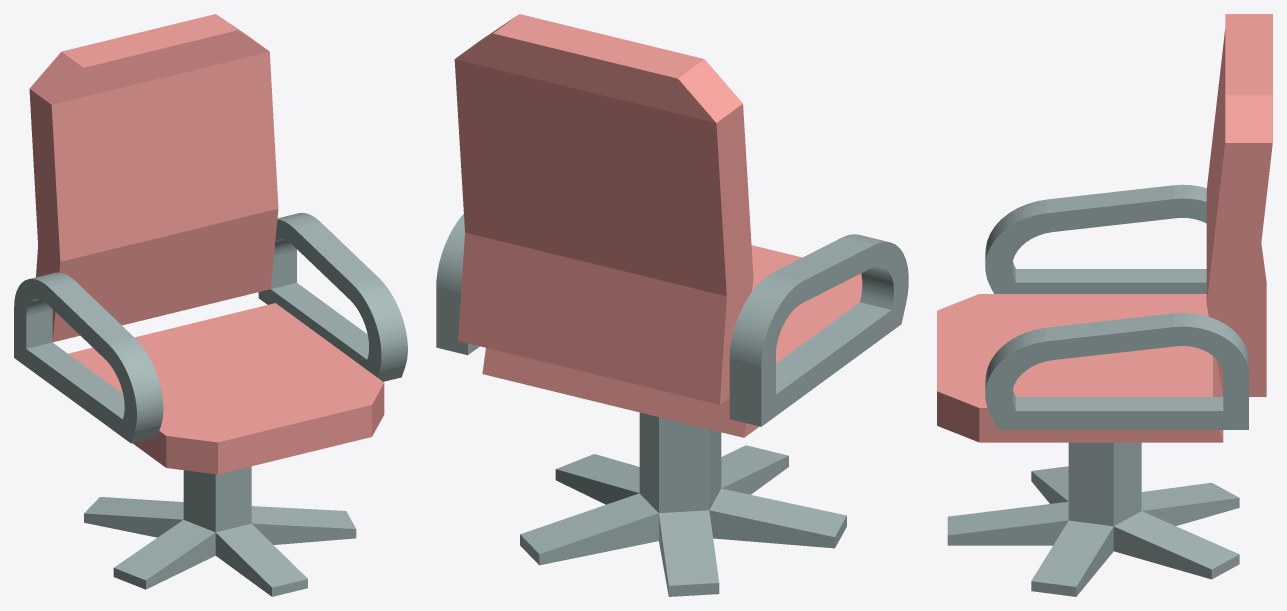
3 views of the same model, side by side, from view 1: azimuth 30°, elevation 25°; view 2: azimuth 150°, elevation 25°; view 3: azimuth 270°, elevation 25° (orthographic). The views are drawn at different scales.
Parts seen in each view (by area): view 1: chair, chairDesk(Clone); view 2: chair, chairDesk(Clone); view 3: chair, chairDesk(Clone).
Part boxes in pixels (box(x1,y1,x2,y2)): chair: box(14, 14, 407, 474); chairDesk(Clone): box(84, 466, 356, 596); chair: box(436, 14, 908, 437); chairDesk(Clone): box(520, 412, 846, 596); chair: box(937, 14, 1272, 442); chairDesk(Clone): box(947, 442, 1239, 596).
Bounding box in the file's own units: 0.6 × 0.95 × 0.6.
